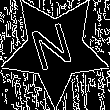N_S: (29, 19, 81, 80)
